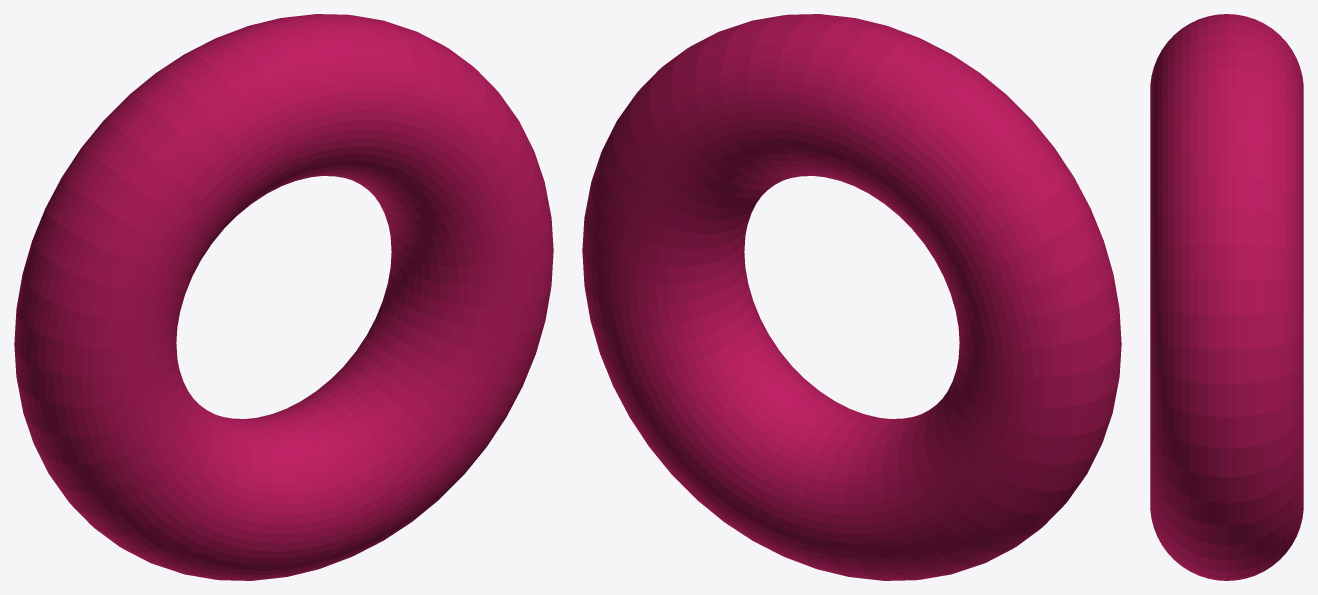
3 renders of one model, left to right at view 1: azimuth 30°, elevation 25°; view 2: azimuth 150°, elevation 25°; view 3: azimuth 270°, elevation 25°, orthographic. The views are drawn at different scales.
Parts seen in each view (by area): view 1: world; view 2: world; view 3: world.
Boxes of the visible parts, box(x1,y1,x2,y2) form: world: box(14, 14, 553, 580); world: box(582, 14, 1121, 580); world: box(1150, 14, 1303, 580).
Size of the model in its own units: 32.93 by 32.87 by 8.92.
